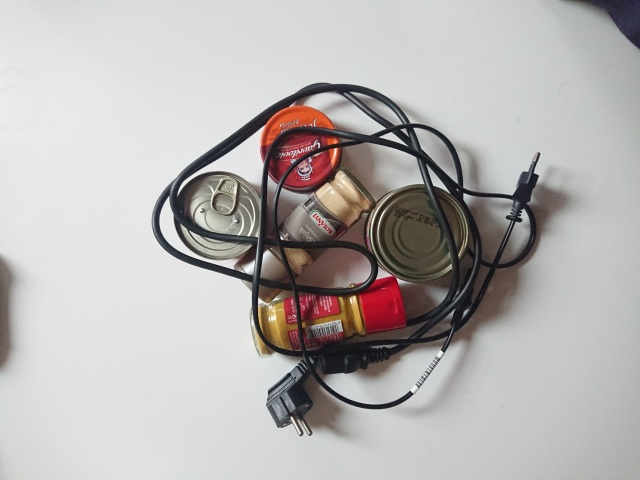Gavrilovic Pork Liver Pate 100g: (257, 103, 344, 195)
Giana Tuna Salad Mexico 185g: (362, 182, 472, 286)
Kotanyi Curry Spices Mix 70g: (246, 272, 411, 362)
Kotanyi Garlic Granules 70g: (231, 166, 377, 305)
Podravka Luncheon Meat 150g: (171, 168, 267, 262)
